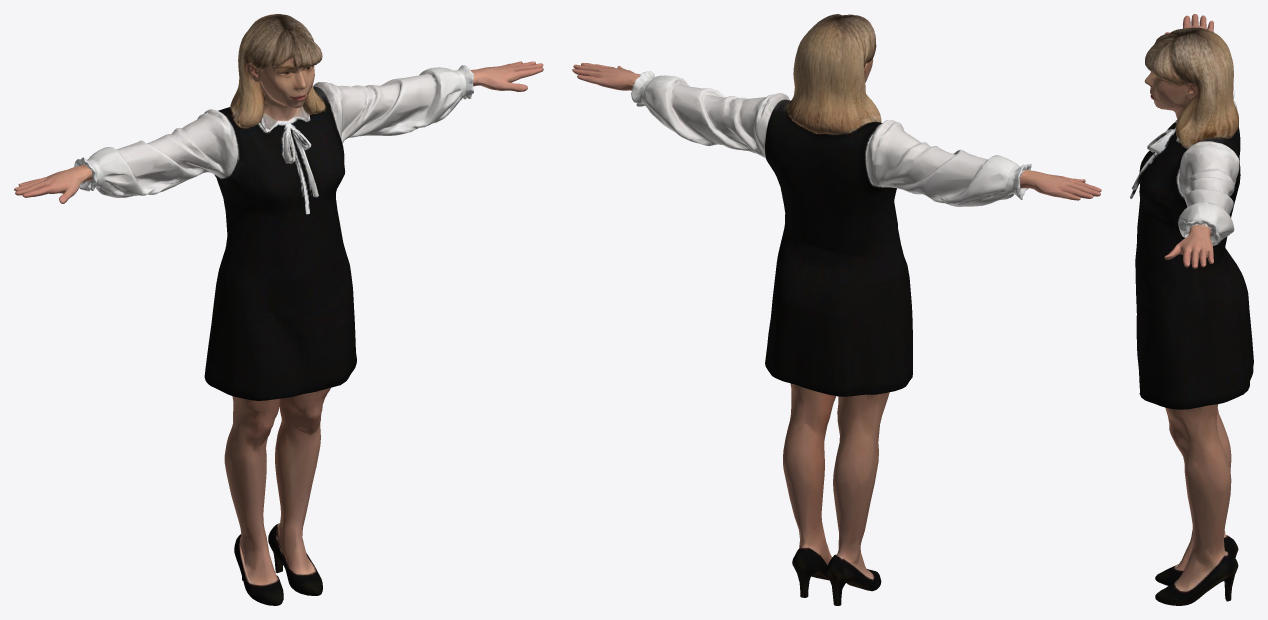
File: sophie.glb
3 renders of one model, left to right at view 1: azimuth 30°, elevation 25°; view 2: azimuth 150°, elevation 25°; view 3: azimuth 270°, elevation 25°, orthographic.
Visible parts, largest first — view 1: model; view 2: model; view 3: model.
Boxes of the visible parts, box(x1,y1,x2,y2) form: model: box(14, 14, 543, 605); model: box(572, 14, 1101, 605); model: box(1130, 14, 1253, 605).
Size of the model in its own units: 0.9473 by 0.9796 by 0.1962.
1 material, 1 textured.
